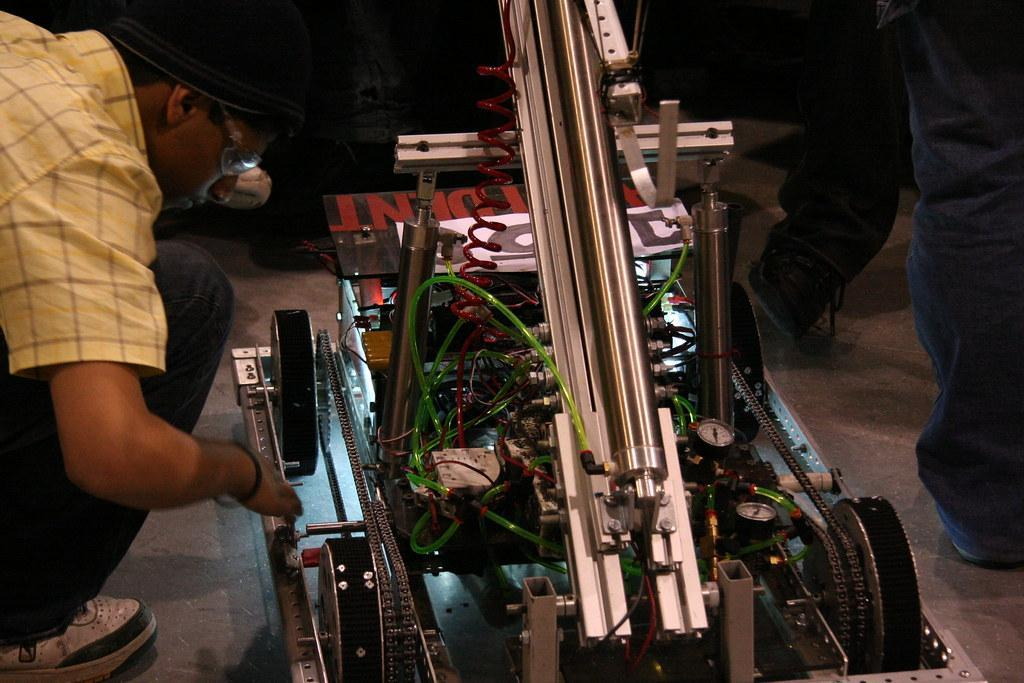robot: (226, 0, 983, 679)
